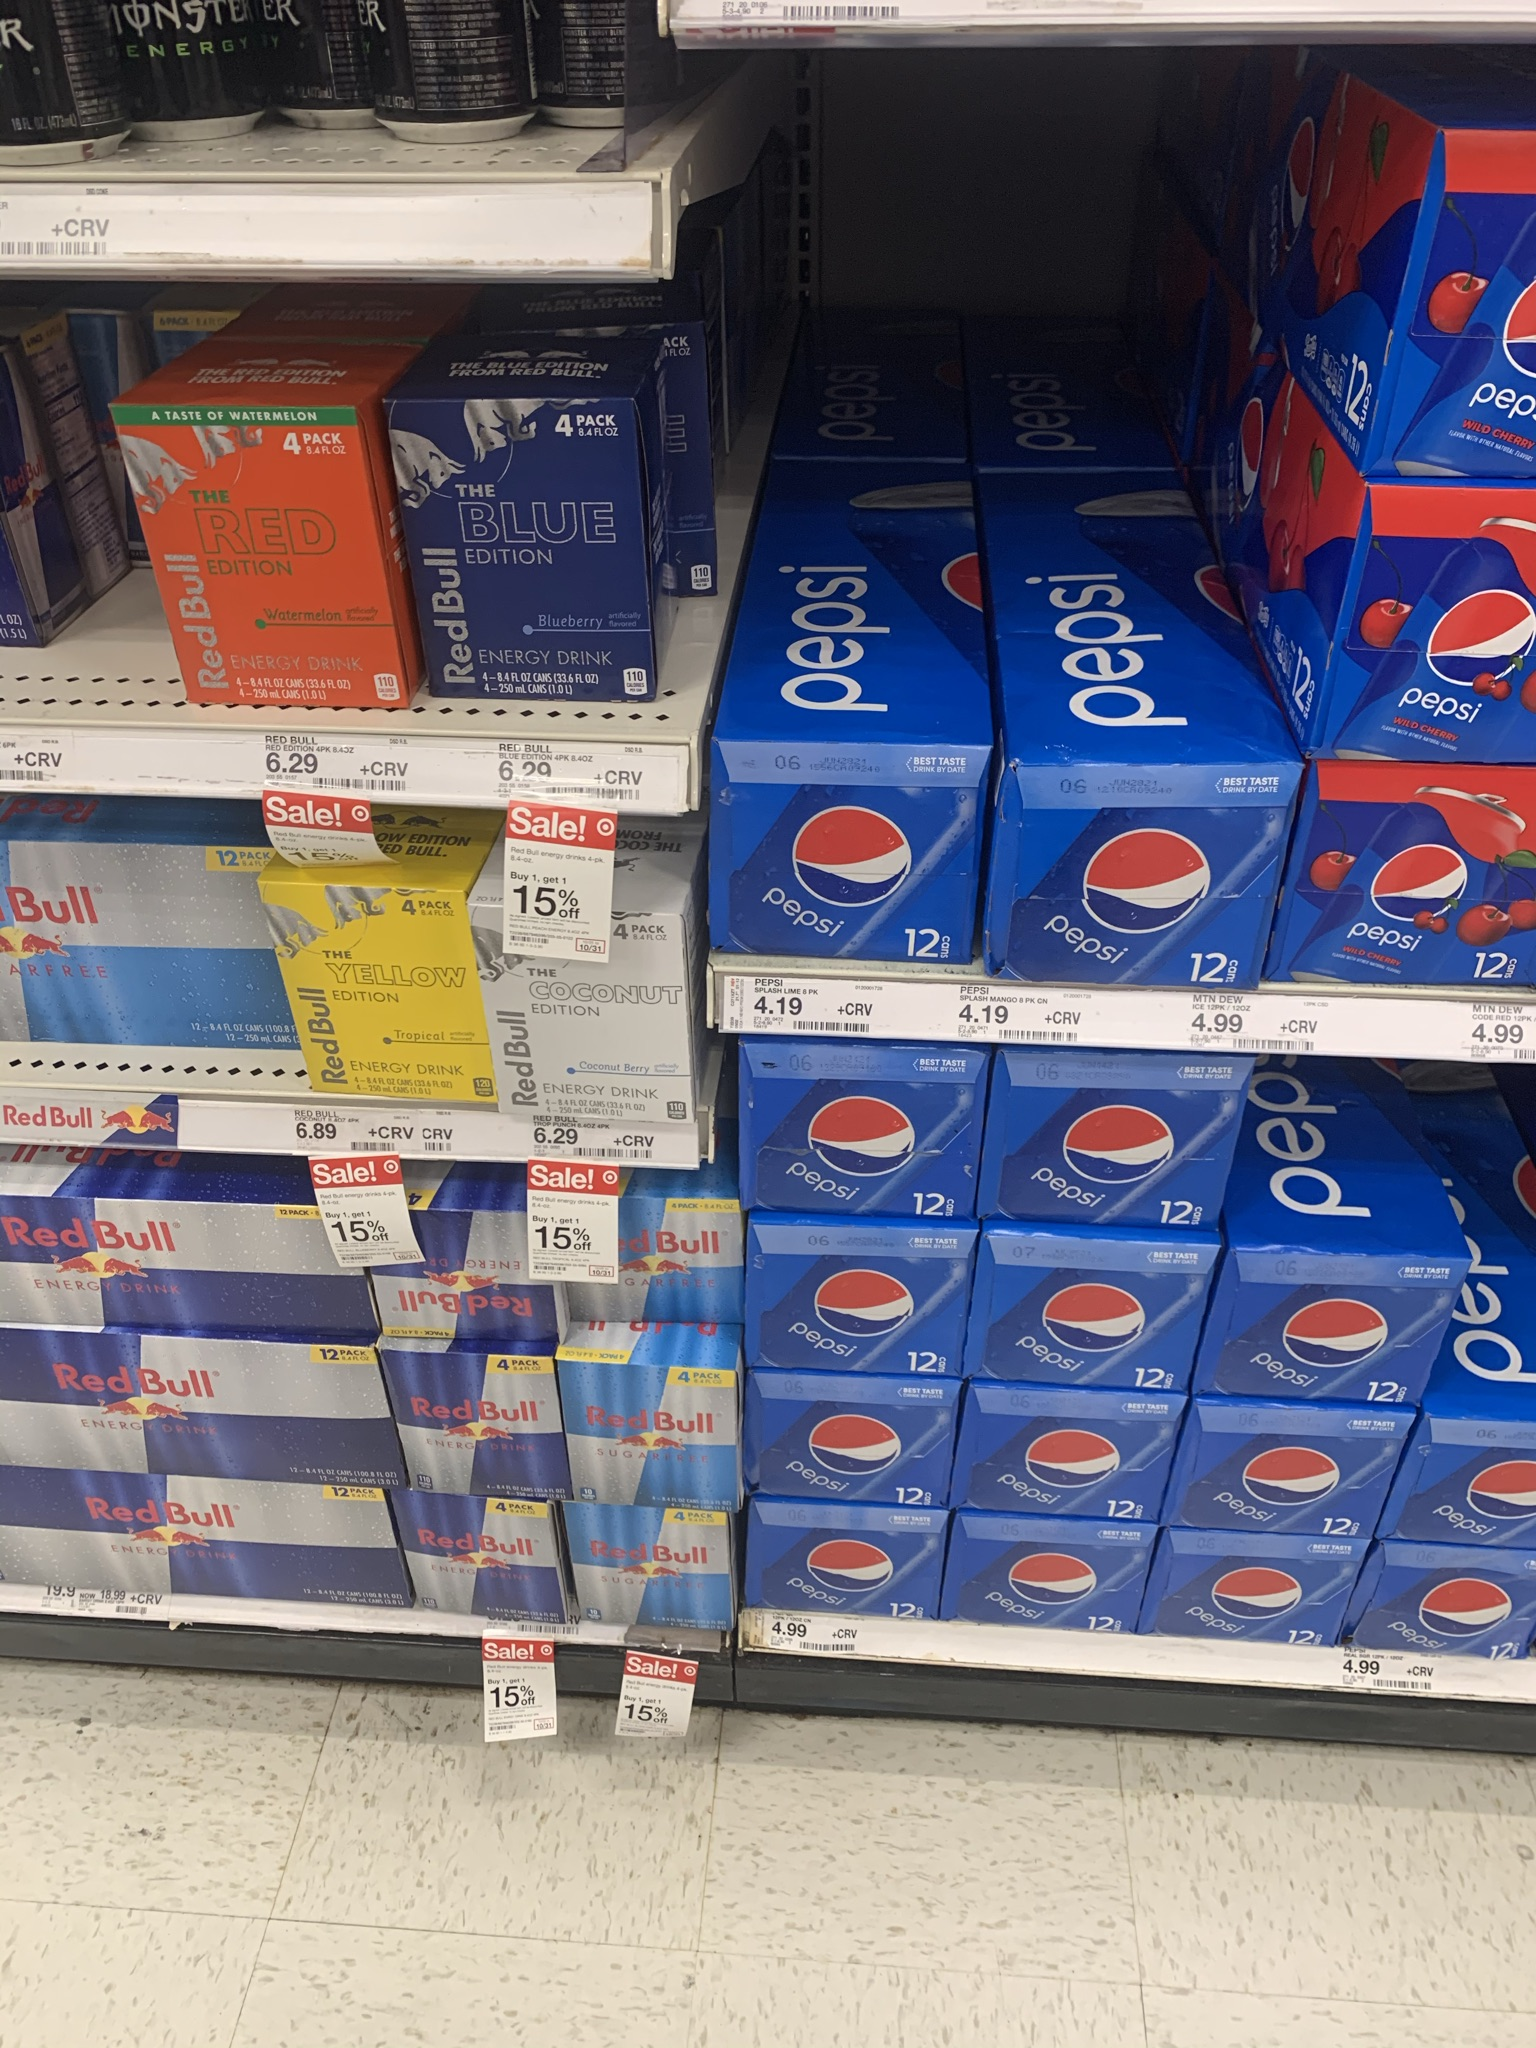pepsi soda: (984, 1550, 1536, 1655), (1012, 769, 1258, 992), (720, 747, 962, 969), (1302, 780, 1525, 974), (997, 1043, 1226, 1230), (742, 1047, 978, 1226), (1244, 1242, 1449, 1388), (1199, 1397, 1399, 1546), (989, 1250, 1175, 1406), (766, 1238, 958, 1380), (758, 1506, 939, 1643), (970, 1385, 1162, 1514), (749, 1384, 954, 1500)
redbull soda: (2, 1197, 716, 1356), (19, 1526, 774, 1674), (3, 1364, 721, 1488), (123, 405, 411, 701), (423, 410, 658, 693)
